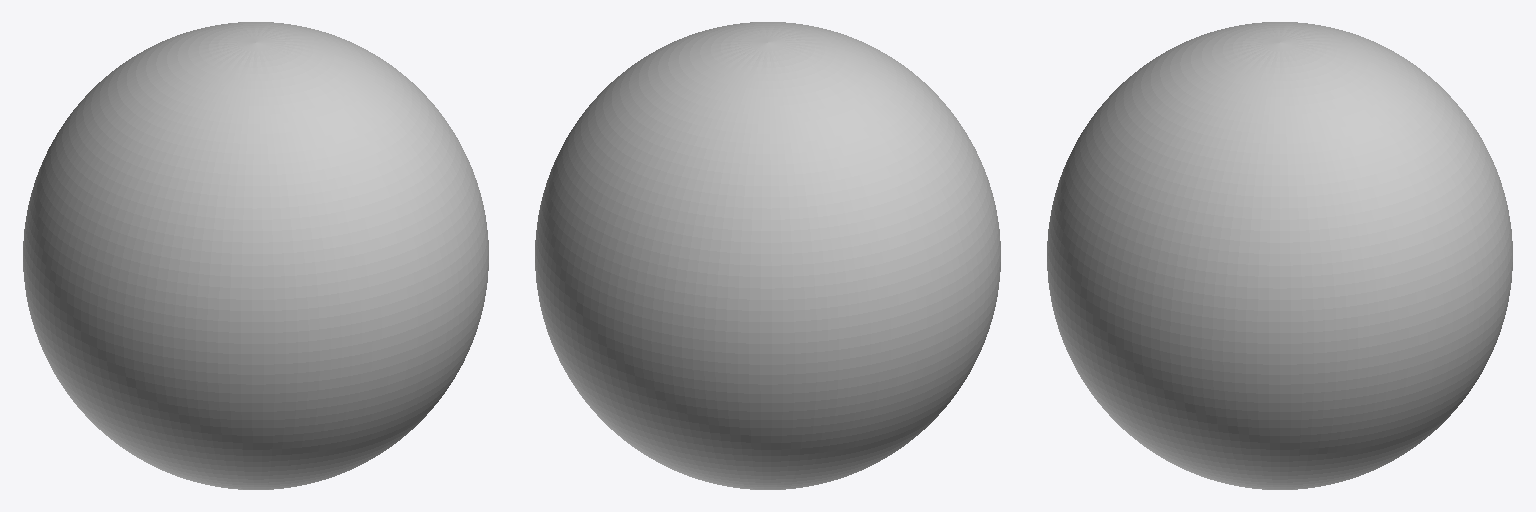
File: jupiter.obj
3 renders of one model, left to right at view 1: azimuth 30°, elevation 25°; view 2: azimuth 150°, elevation 25°; view 3: azimuth 270°, elevation 25°, orthographic.
Parts seen in each view (by area): view 1: Sphere; view 2: Sphere; view 3: Sphere.
Part boxes in pixels (left/top/right/bottom): Sphere: left=23, top=22, right=488, bottom=489; Sphere: left=535, top=22, right=1000, bottom=489; Sphere: left=1047, top=22, right=1512, bottom=489.
Size of the model in its own units: 22.33 by 22.57 by 22.33.